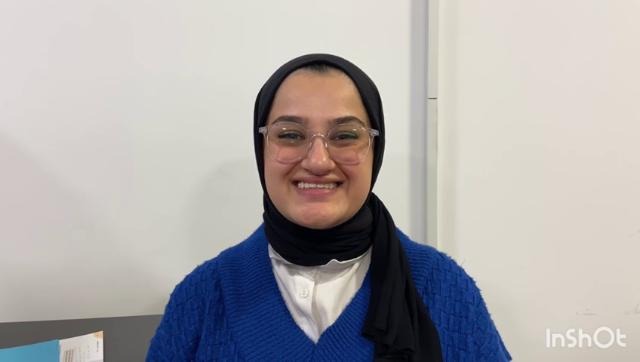senang: (252, 67, 381, 229)
